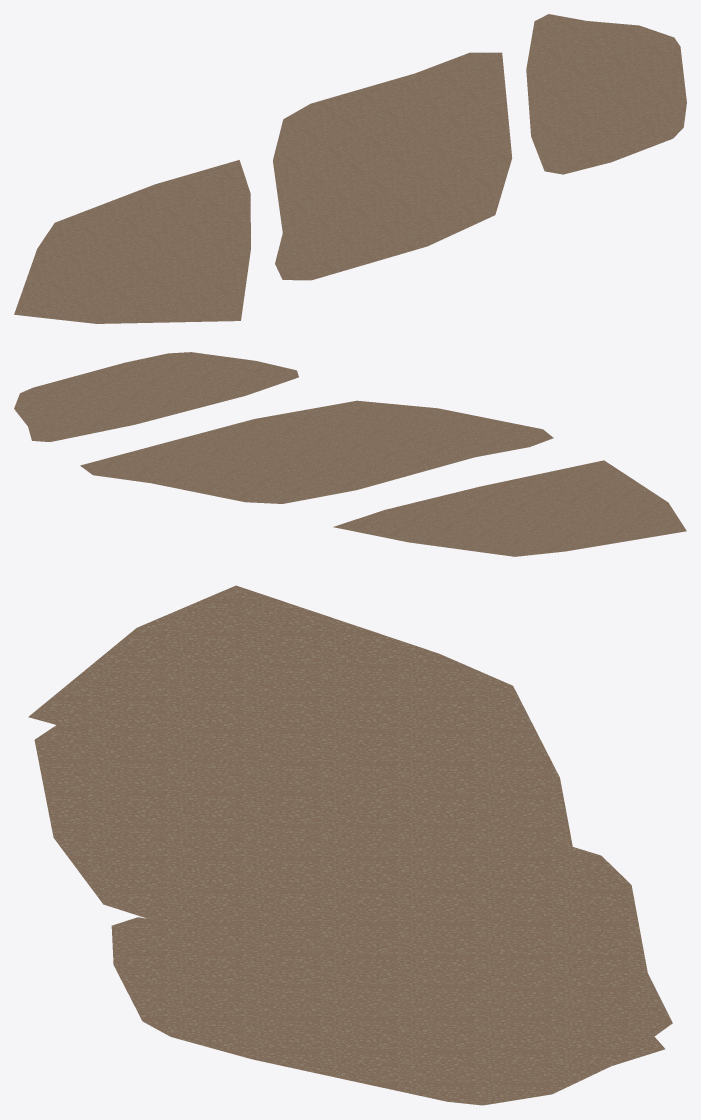
The model's file is kd_stage_135fe0_4_52.glb.
3 renders of one model, top to bottom at view 1: azimuth 30°, elevation 25°; view 2: azimuth 150°, elevation 25°; view 3: azimuth 270°, elevation 25°, orthographic. The views are drawn at different scales.
Visible parts, largest first — view 1: kd_stage_135fe0_4_52; view 2: kd_stage_135fe0_4_52; view 3: kd_stage_135fe0_4_52.
Part boxes in pixels (x1=…): kd_stage_135fe0_4_52: x1=14, y1=14, x2=686, y2=323; kd_stage_135fe0_4_52: x1=14, y1=352, x2=686, y2=556; kd_stage_135fe0_4_52: x1=28, y1=585, x2=672, y2=1105.
Size of the model in its own units: 28.65 by 1.6 by 13.21.
1 material, 1 textured.
